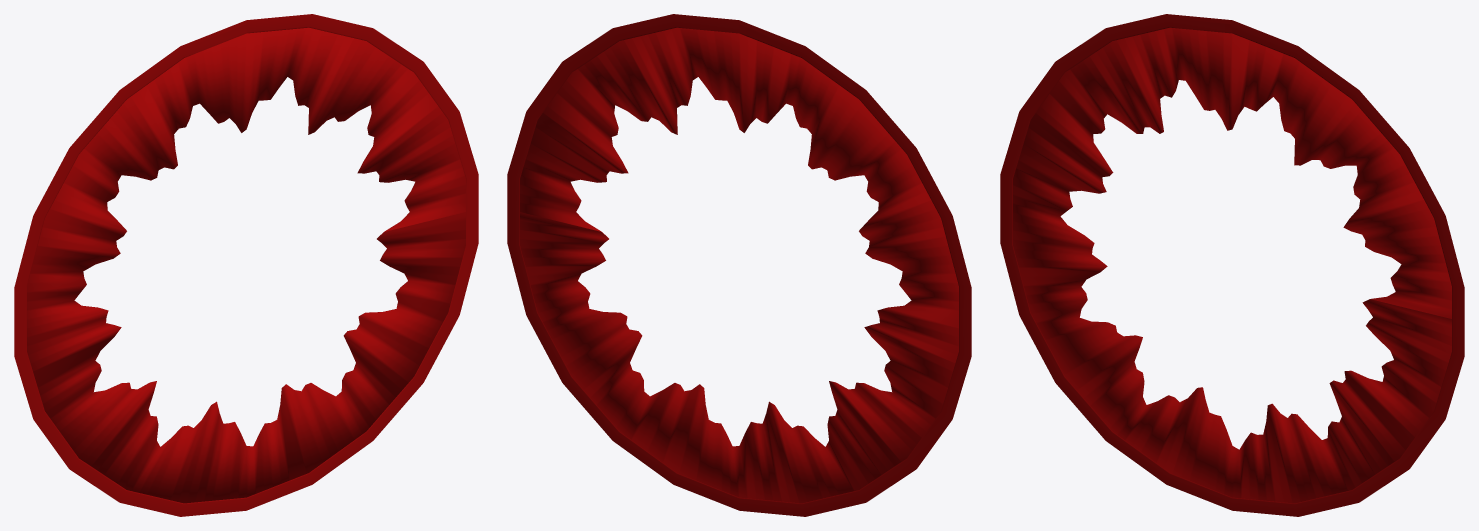
Rendered from red_flag_spawn.fbx.
3 views of the same model, side by side, from view 1: azimuth 30°, elevation 25°; view 2: azimuth 150°, elevation 25°; view 3: azimuth 330°, elevation 25° (orthographic).
Parts seen in each view (by area): view 1: RingWave01_None; view 2: RingWave01_None; view 3: RingWave01_None.
Boxes of the visible parts, x1,y1,x2,y2 form: RingWave01_None: (14,14,478,516); RingWave01_None: (507,14,971,516); RingWave01_None: (1000,14,1464,516).
Size of the model in its own units: 114 by 116 by 0.1121.
1 material, 1 textured.
